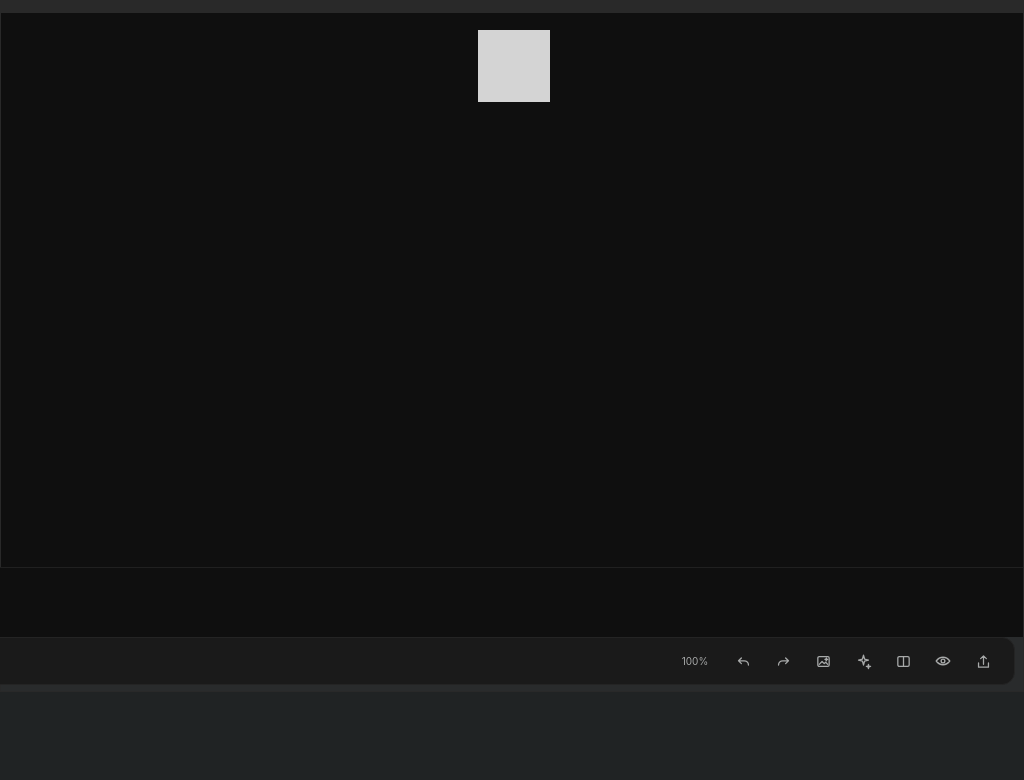
Test: PreviewPanel viewport interactions › selects an exact 200 percent zoom from the native-style menu
The width and height of the screenshot is (1024, 780).
Click the button named "适合视图": click(695, 661) [670, 644, 720, 678]
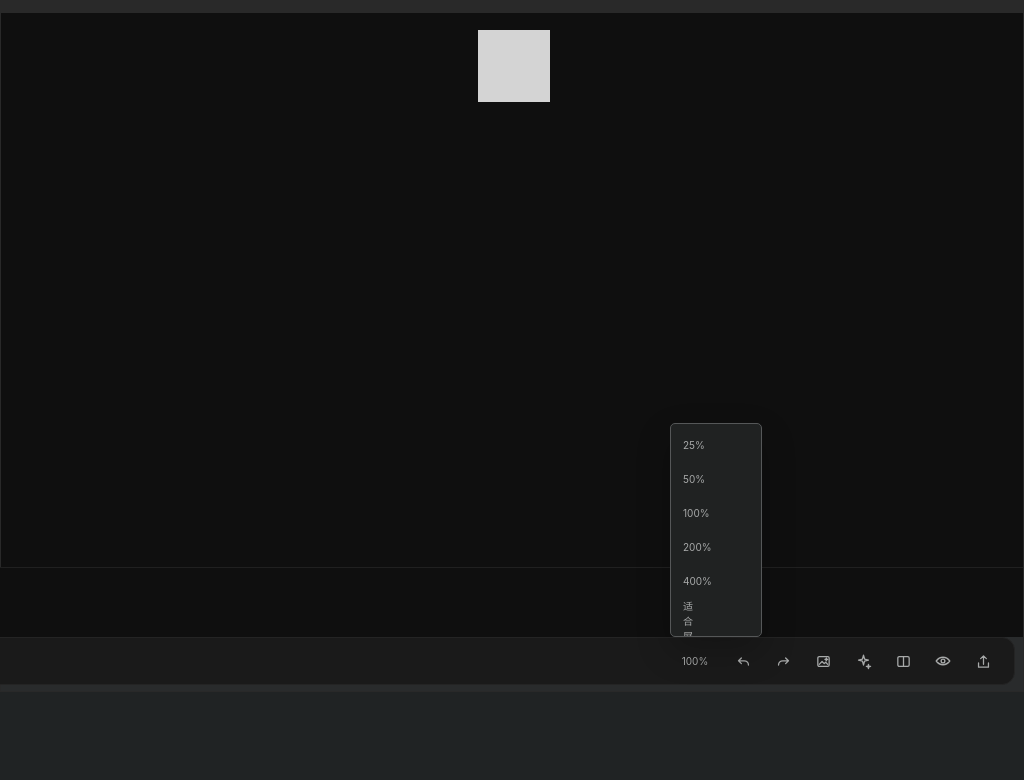
Click the menu item "200%": click(692, 547) [675, 530, 709, 564]
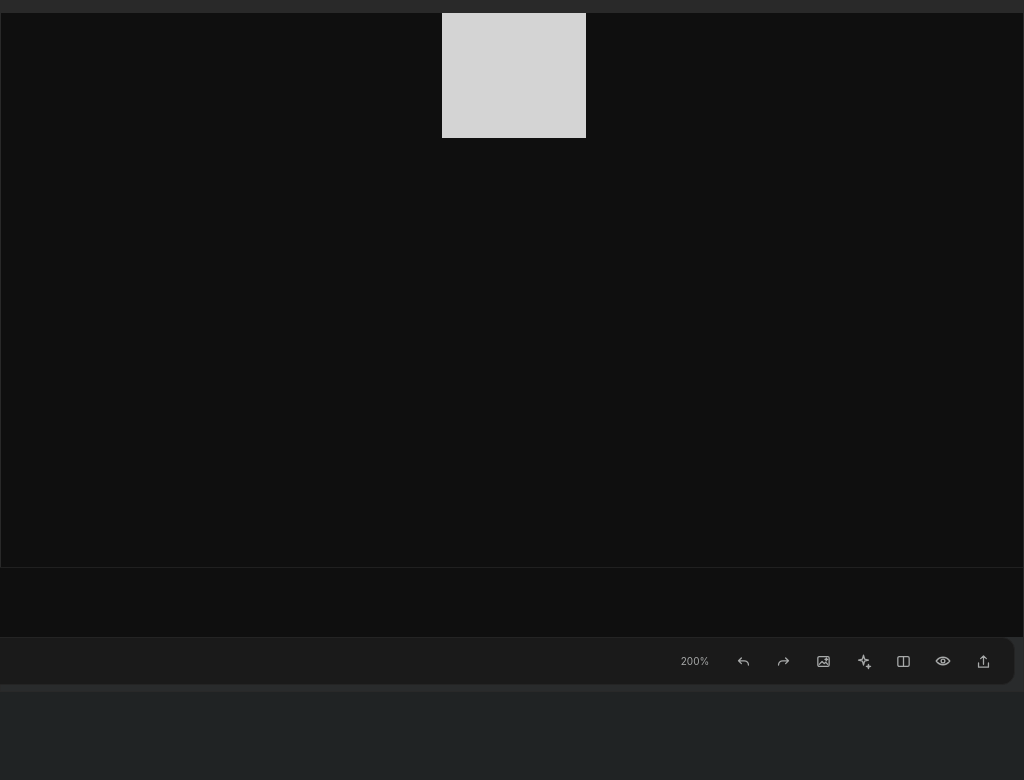
Result: the button named "适合视图" reads "200%" at [670, 644, 720, 678]
